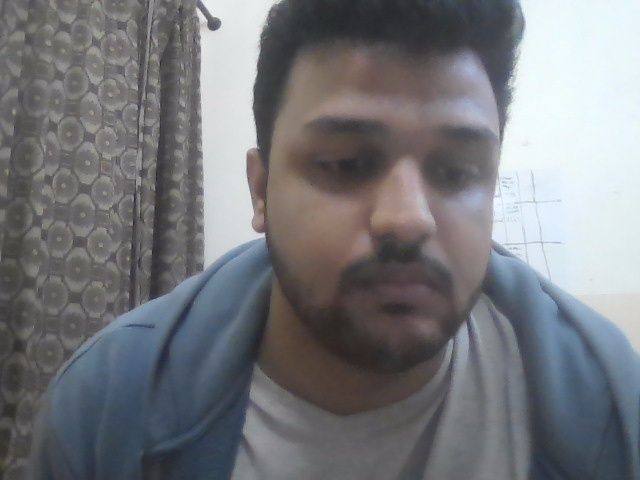awake: (231, 33, 577, 385)
